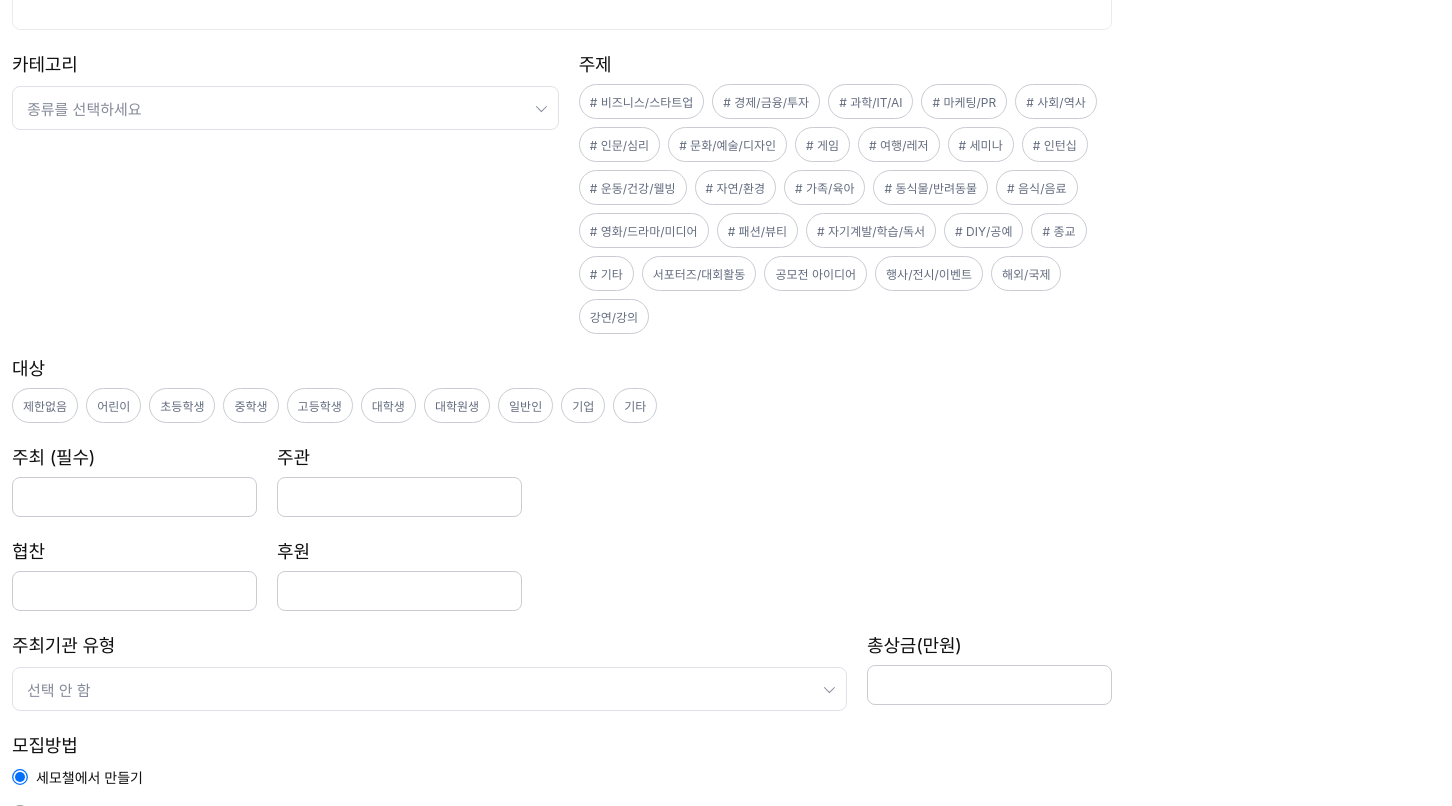
Scenario: BizPostingFormPage › 대상 칩은 제한없음이 맨 앞이고, 기타를 고르면 직접 입력란이 열린다
This screenshot has width=1452, height=806.
(page scrolled)
Expected: the button "제한없음" is shown, 12,388 -> 78,423
What coordinates should you click on to do the following:
click the button "기타"
I would click on:
 (635, 406)
Its box is 613,388 -> 657,423.
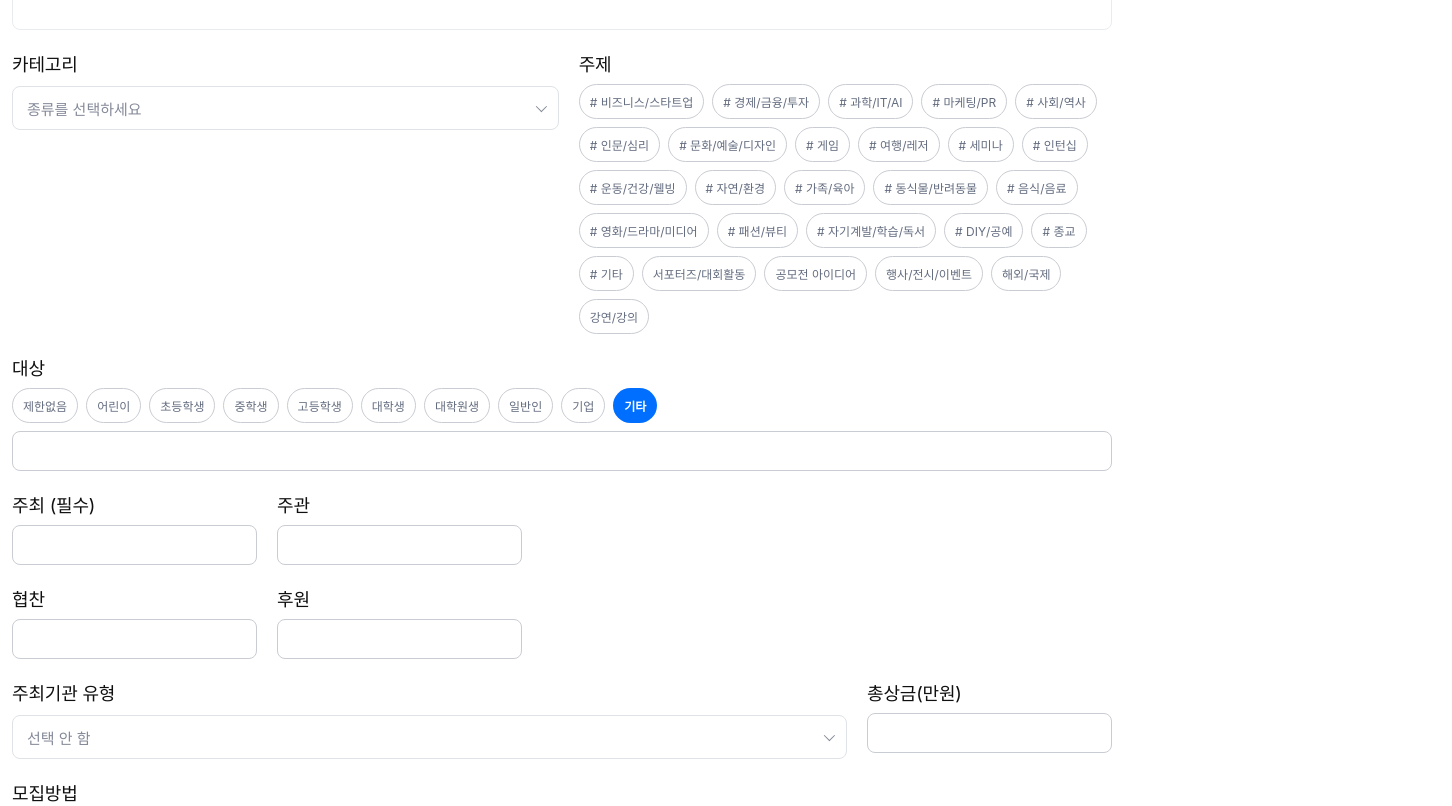
Expected: the field named "대상 기타 내용" is shown, 12,431 -> 1112,471
